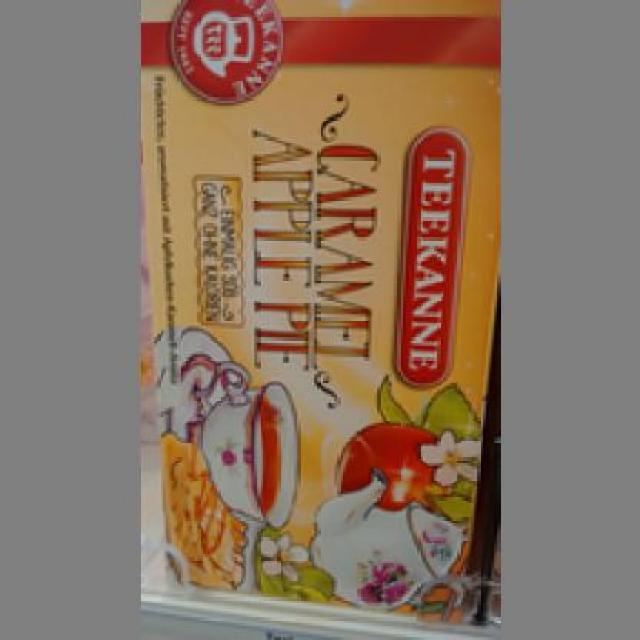Tea: (137, 0, 494, 620)
